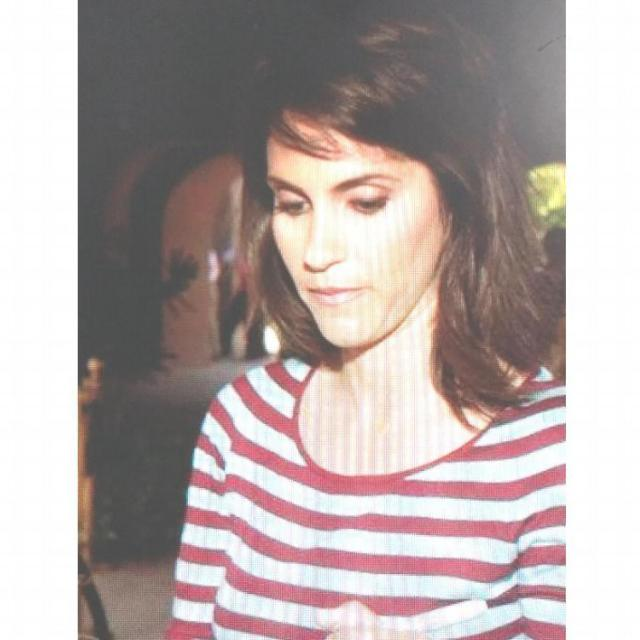live: (254, 98, 476, 358)
